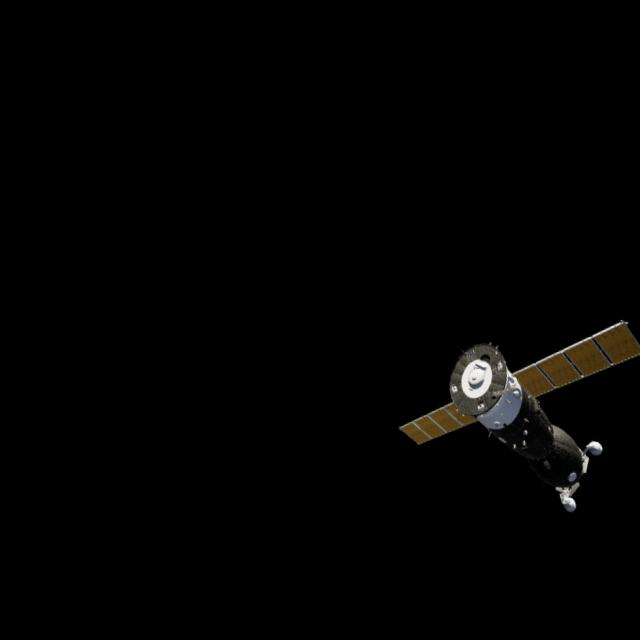Satellites revolving around earth: (382, 306, 640, 546)
